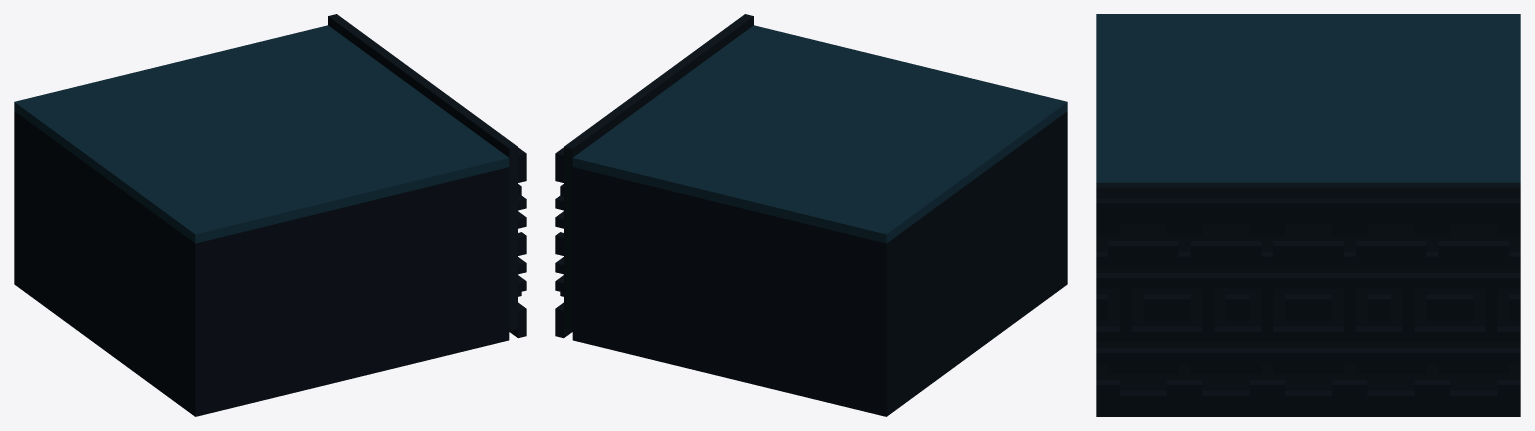
File: Block_Base_Side.obj
3 views of the same model, side by side, from view 1: azimuth 30°, elevation 25°; view 2: azimuth 150°, elevation 25°; view 3: azimuth 270°, elevation 25° (orthographic). The views are drawn at different scales.
Size of the model in its own units: 0.95 by 0.525 by 0.9.
